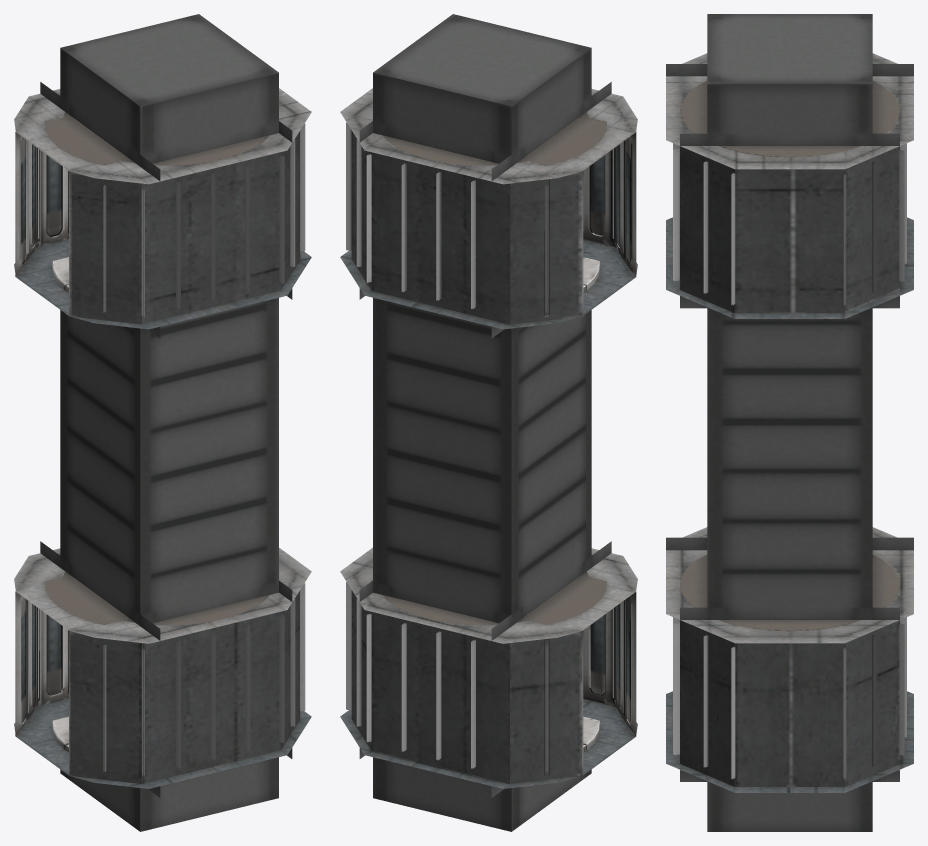
File: elevator_entry.obj
The picture shows the model from 3 angles, left to right: view 1: azimuth 30°, elevation 25°; view 2: azimuth 150°, elevation 25°; view 3: azimuth 270°, elevation 25°; orthographic projection. The views are drawn at different scales.
Visible parts, largest first — view 1: elevator_shaft.mdl/elevator_shaft.smd.001; view 2: elevator_shaft.mdl/elevator_shaft.smd.001; view 3: elevator_shaft.mdl/elevator_shaft.smd.001.
Boxes of the visible parts, x1,y1,x2,y2 form: elevator_shaft.mdl/elevator_shaft.smd.001: (14,14,311,831); elevator_shaft.mdl/elevator_shaft.smd.001: (340,14,637,831); elevator_shaft.mdl/elevator_shaft.smd.001: (666,14,913,831).
Bounding box in the file's own units: 5.26 × 15 × 4.5.
